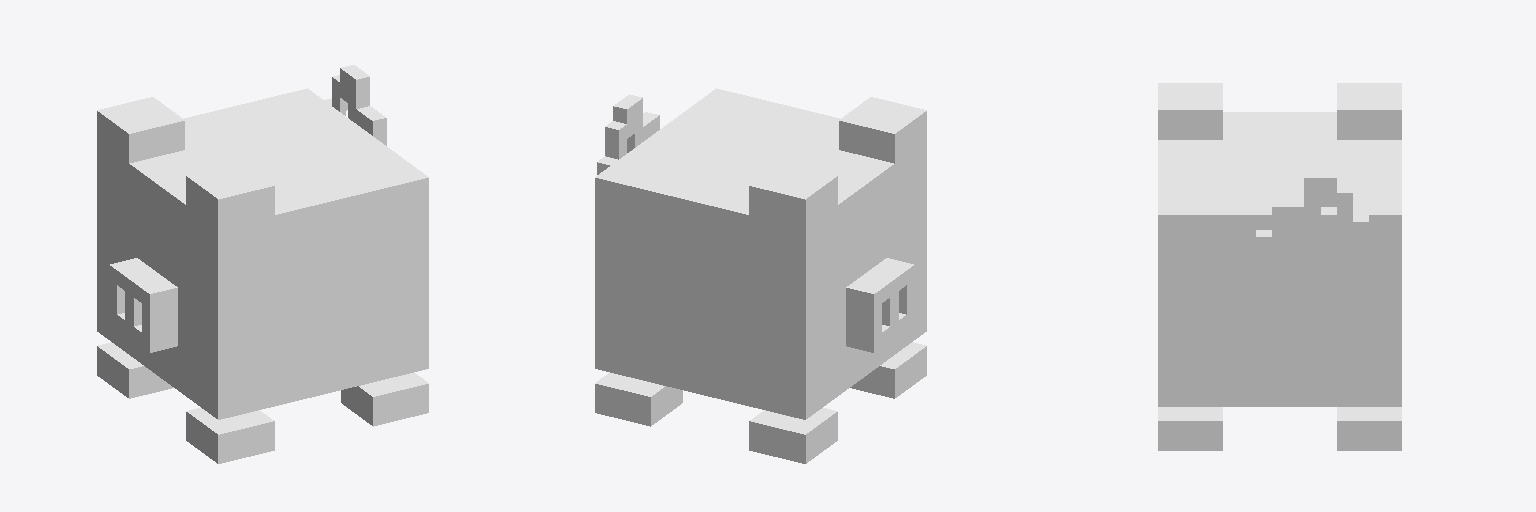
Rendered from pig_sep.obj.
3 renders of one model, left to right at view 1: azimuth 30°, elevation 25°; view 2: azimuth 150°, elevation 25°; view 3: azimuth 270°, elevation 25°, orthographic.
Parts seen in each view (by area): view 1: pig_sep; view 2: pig_sep; view 3: pig_sep.
Part boxes in pixels (bbox=[...]): pig_sep: bbox=[97, 65, 428, 463]; pig_sep: bbox=[595, 88, 926, 463]; pig_sep: bbox=[1158, 83, 1401, 450].
Size of the model in its own units: 18 by 19 by 15.